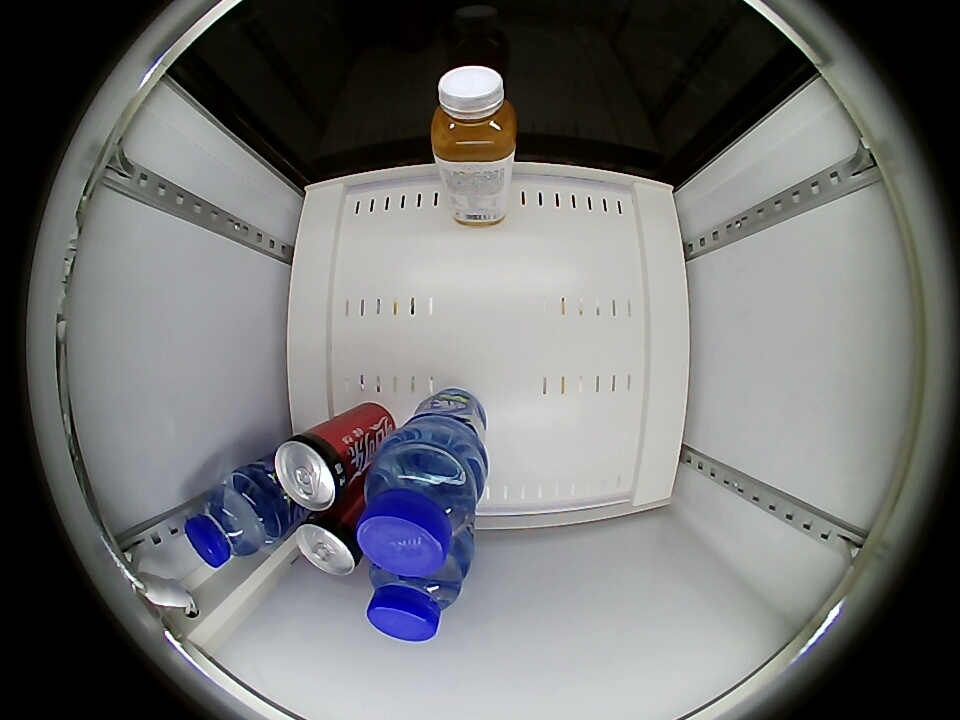chapai: (431, 67, 518, 166)
lingdukele: (274, 431, 355, 511), (294, 511, 366, 577)
maidong: (357, 443, 479, 576), (364, 549, 468, 642), (183, 478, 273, 568)
